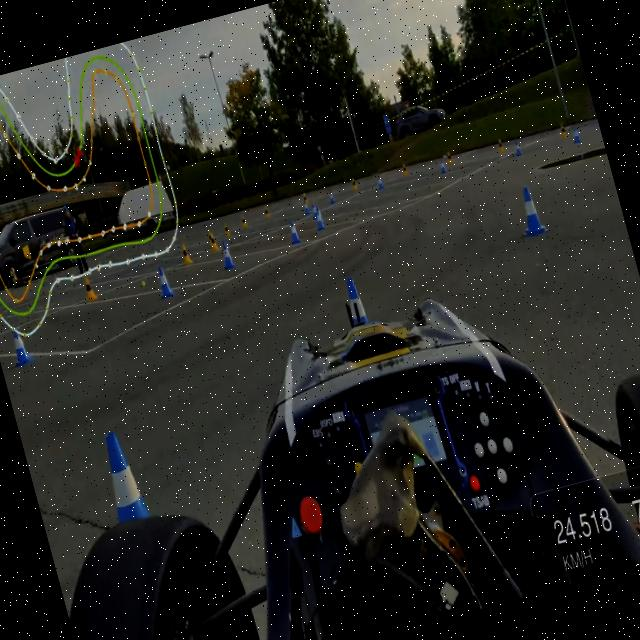blue_cone: (88, 426, 171, 580), (334, 272, 386, 368), (512, 182, 548, 238), (5, 323, 33, 368), (154, 262, 176, 298), (217, 239, 236, 270), (286, 218, 300, 244), (313, 208, 325, 230)
yellow_cone: (80, 274, 98, 302), (178, 238, 193, 264), (206, 231, 219, 251)
